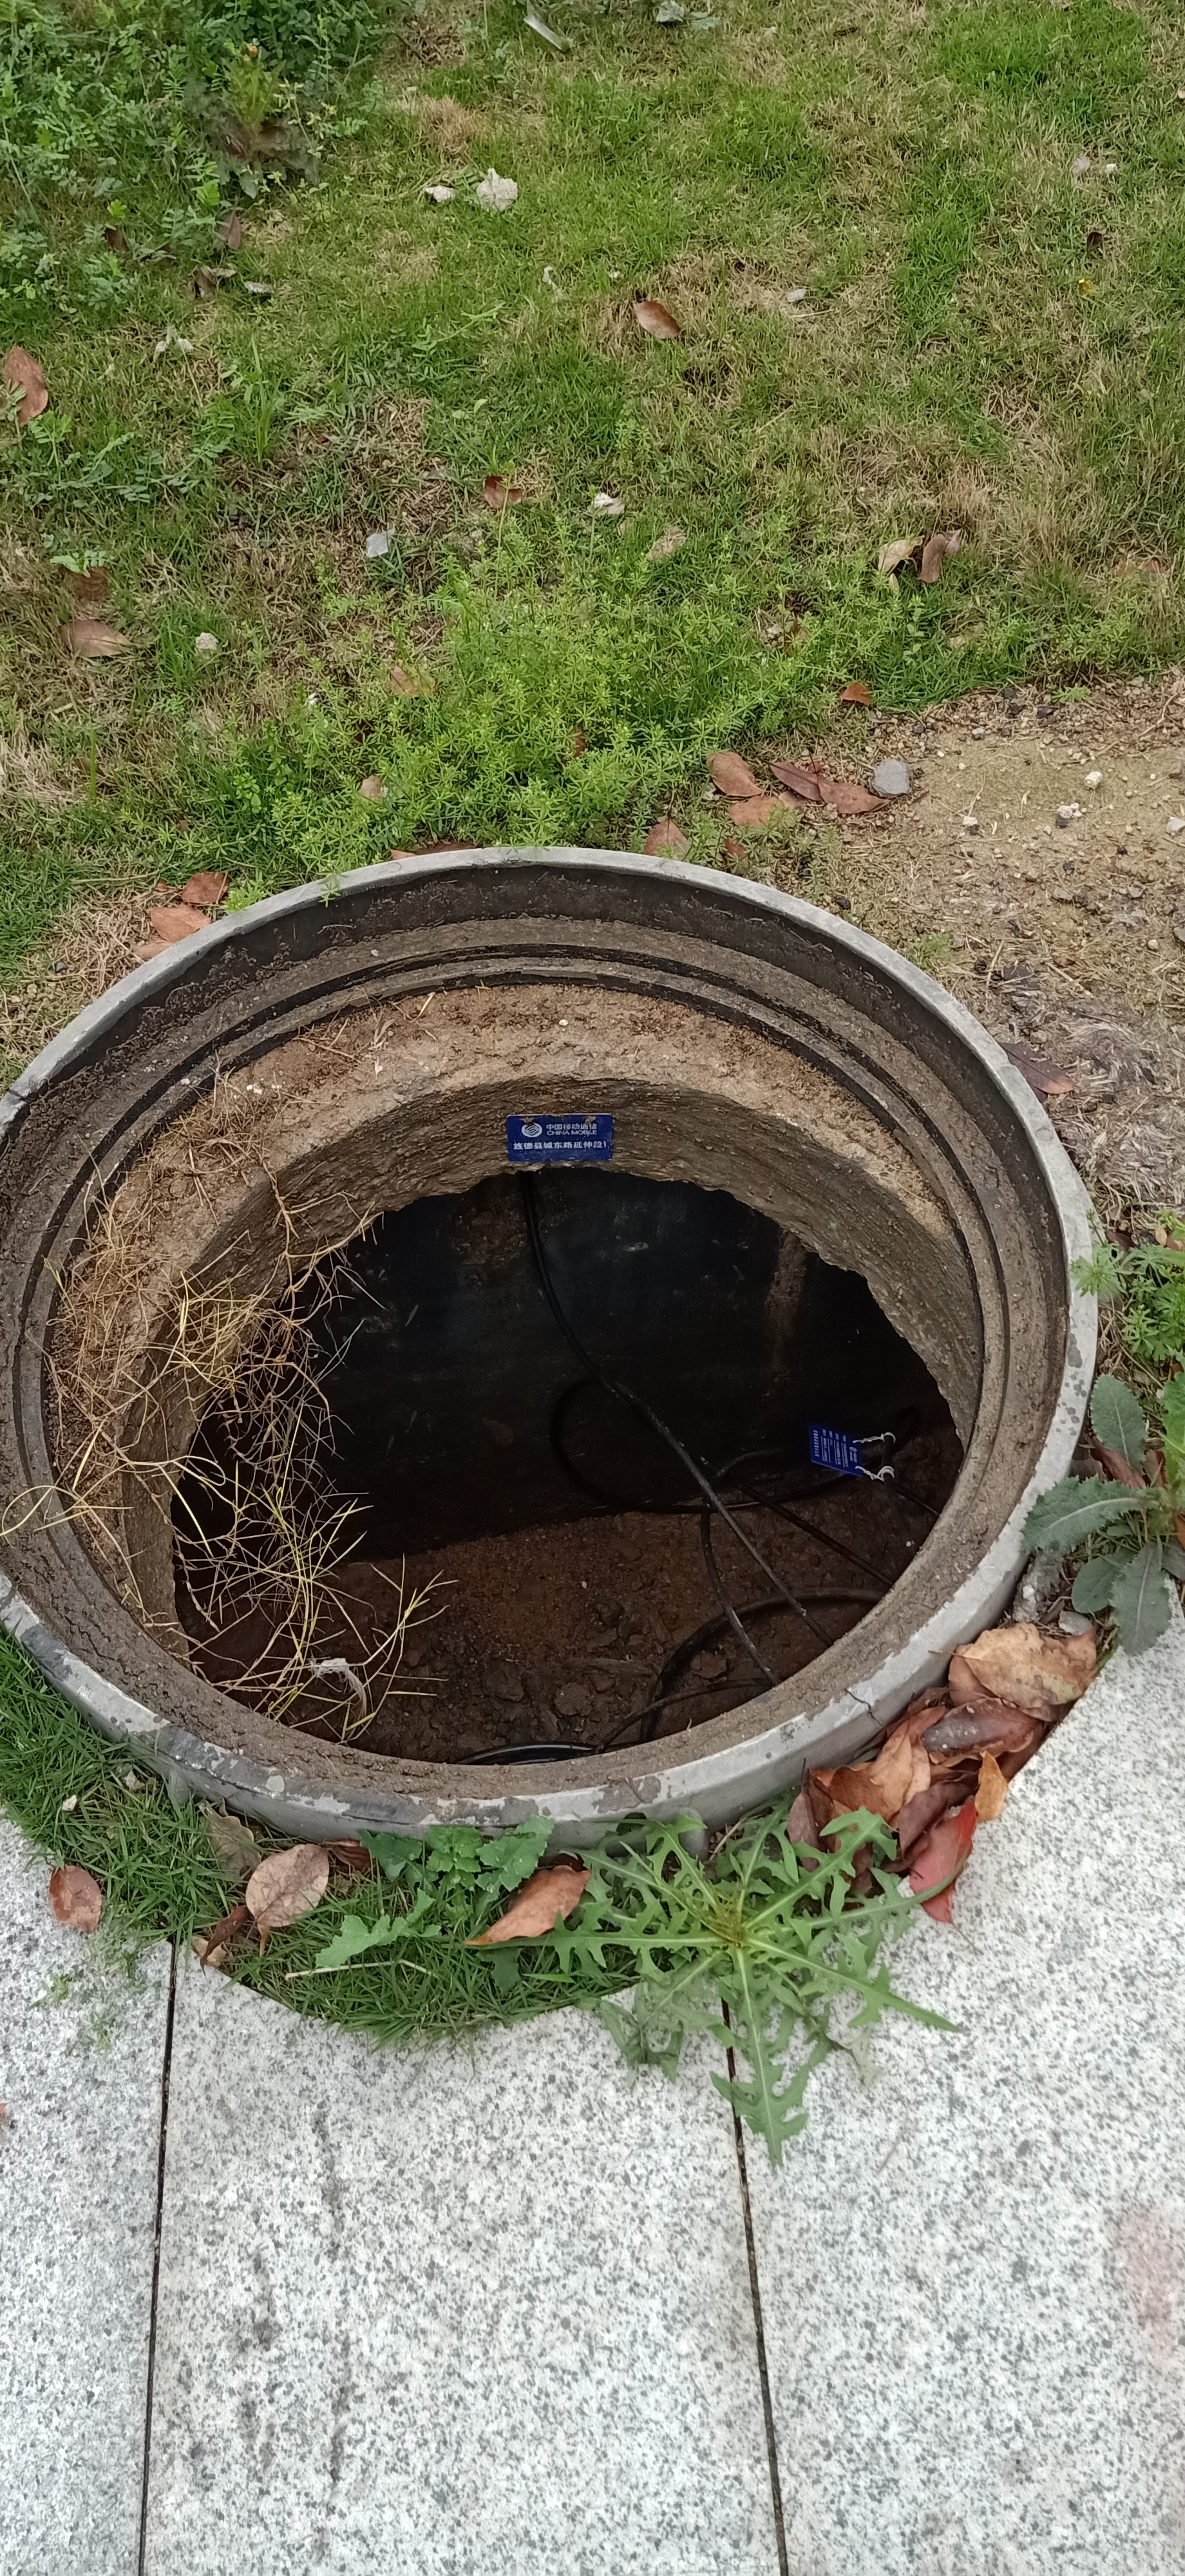lose: (8, 841, 1111, 1856)
